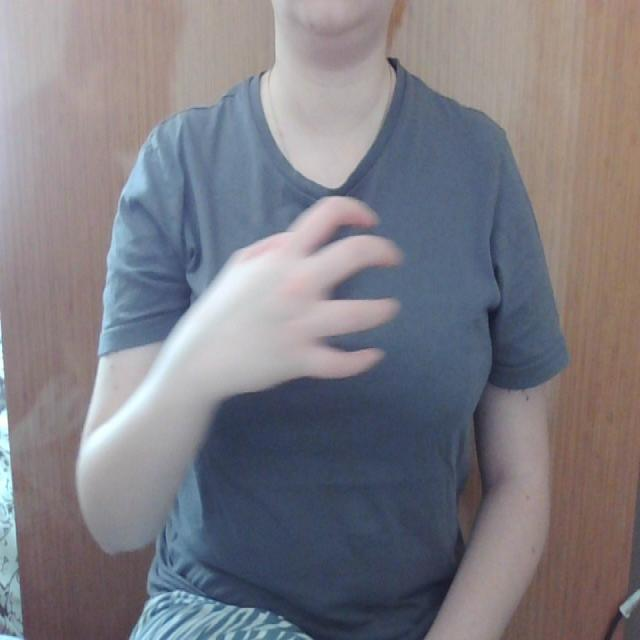Anne: (152, 190, 498, 418)
